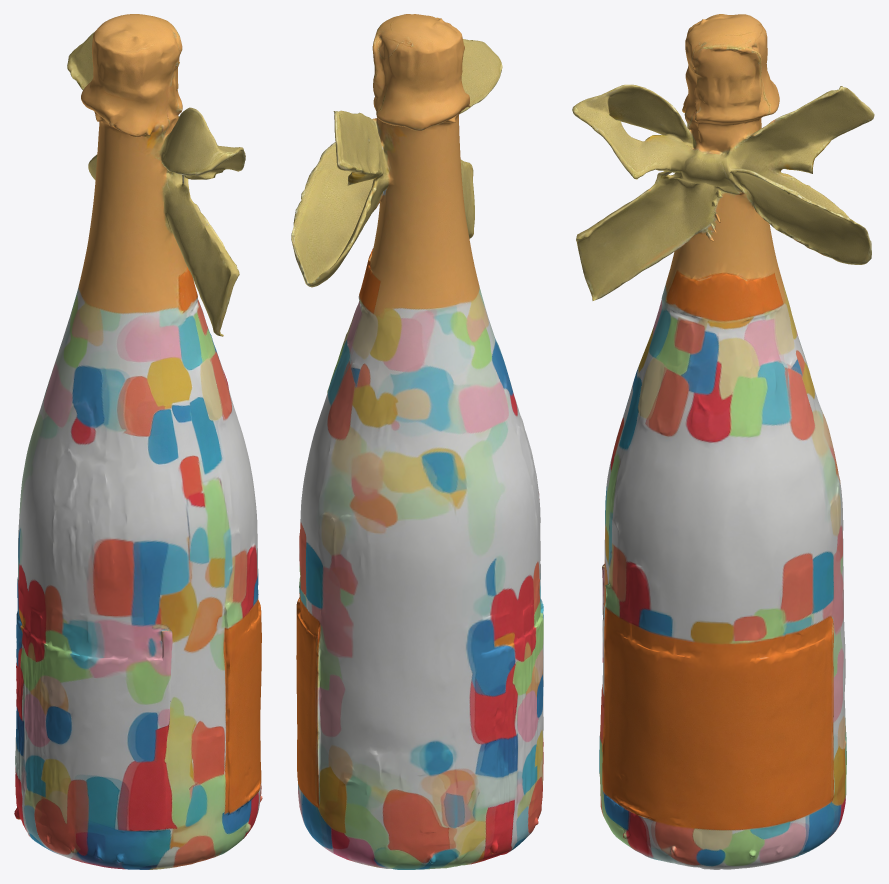
Rendered from bottle.glb.
3 renders of one model, left to right at view 1: azimuth 30°, elevation 25°; view 2: azimuth 150°, elevation 25°; view 3: azimuth 270°, elevation 25°, orthographic.
Parts seen in each view (by area): view 1: tripo_node_9b07e2ba-a490-43d0-8198-c3fc0140dacb; view 2: tripo_node_9b07e2ba-a490-43d0-8198-c3fc0140dacb; view 3: tripo_node_9b07e2ba-a490-43d0-8198-c3fc0140dacb.
Boxes of the visible parts, <box> form: tripo_node_9b07e2ba-a490-43d0-8198-c3fc0140dacb: <box>14,14,262,869</box>; tripo_node_9b07e2ba-a490-43d0-8198-c3fc0140dacb: <box>291,14,543,869</box>; tripo_node_9b07e2ba-a490-43d0-8198-c3fc0140dacb: <box>572,14,874,869</box>.
Bounding box in the file's own units: 0.0838 × 0.3 × 0.1021.
Materials: 1 (1 with a texture image).
